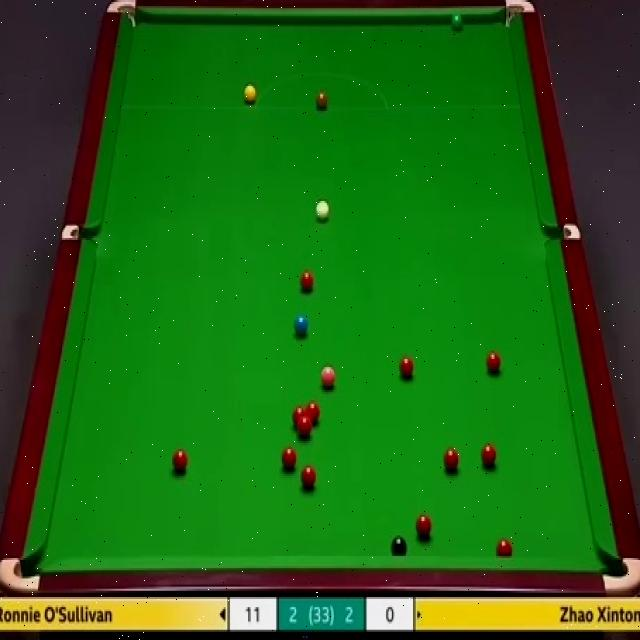black-ball: (388, 535, 406, 558)
blue-ball: (292, 314, 308, 340)
brown-ball: (314, 88, 328, 112)
green-ball: (450, 12, 466, 31)
pink-ball: (321, 362, 336, 389)
red-ball: (398, 353, 416, 382), (299, 465, 317, 493), (414, 514, 432, 541), (172, 448, 189, 476), (480, 442, 497, 468), (282, 445, 299, 471), (299, 270, 315, 295), (443, 448, 459, 473), (486, 350, 501, 376), (306, 402, 321, 427), (496, 537, 513, 557), (298, 418, 312, 439), (292, 406, 306, 426)
white-ball: (313, 197, 332, 226)
yellow-ball: (242, 83, 256, 104)
